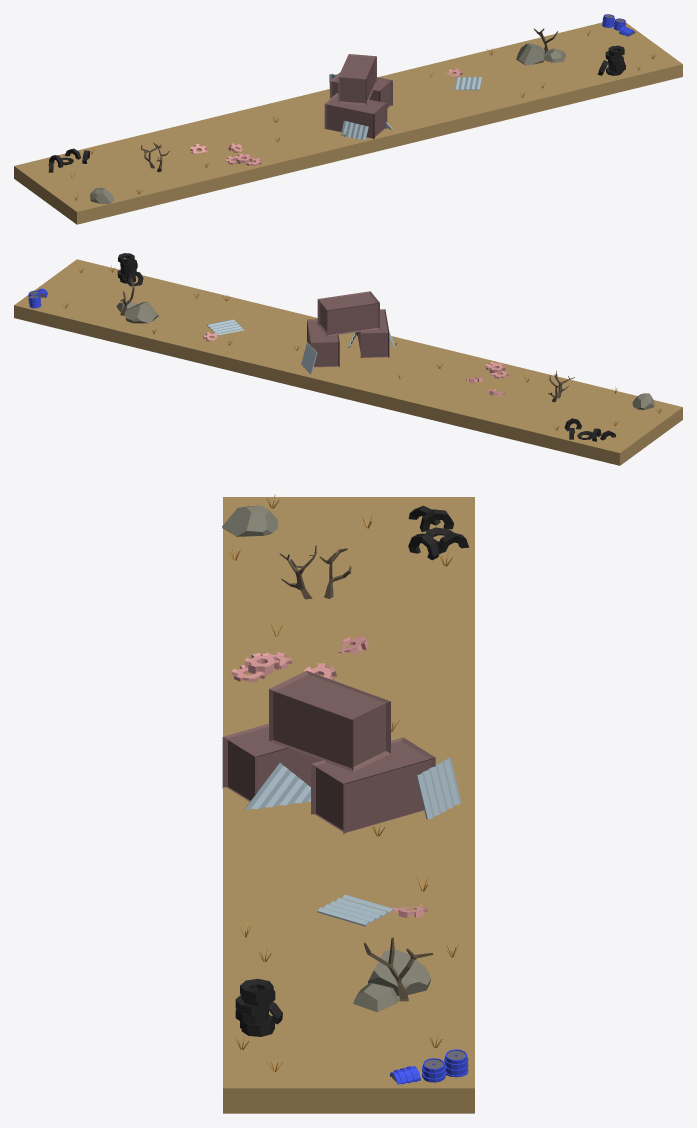
Rendered from Fora-FerroVelho-1.glb.
3 renders of one model, top to bottom at view 1: azimuth 30°, elevation 25°; view 2: azimuth 150°, elevation 25°; view 3: azimuth 270°, elevation 25°, orthographic. The views are drawn at different scales.
Visible parts, largest first — view 1: CHAO.008, CONTAINER.001, CONTAINER.003, CONTAINER.002, PEDRA.030, METAL.008, METAL.007; view 2: CHAO.008, CONTAINER.003, CONTAINER.002, CONTAINER.001, PEDRA.030, METAL.007; view 3: CHAO.008, CONTAINER.003, CONTAINER.002, CONTAINER.001, METAL.009, METAL.010, PEDRA.030, METAL.007, PEDRA.026, PEDRA.031.
Part boxes in pixels (bbox=[...]): CHAO.008: bbox=[14, 18, 682, 224]; CONTAINER.001: bbox=[324, 93, 387, 139]; CONTAINER.003: bbox=[338, 54, 376, 105]; CONTAINER.002: bbox=[330, 72, 392, 108]; PEDRA.030: bbox=[516, 43, 544, 65]; METAL.008: bbox=[340, 120, 368, 139]; METAL.007: bbox=[454, 76, 481, 90]; CHAO.008: bbox=[14, 259, 682, 465]; CONTAINER.003: bbox=[317, 291, 379, 336]; CONTAINER.002: bbox=[307, 319, 339, 367]; CONTAINER.001: bbox=[356, 309, 389, 358]; PEDRA.030: bbox=[124, 301, 158, 323]; METAL.007: bbox=[207, 319, 243, 335]; CHAO.008: bbox=[223, 497, 474, 1113]; CONTAINER.003: bbox=[269, 670, 390, 771]; CONTAINER.002: bbox=[311, 737, 435, 834]; CONTAINER.001: bbox=[222, 723, 321, 801]; METAL.009: bbox=[416, 757, 461, 819]; METAL.010: bbox=[245, 762, 310, 810]; PEDRA.030: bbox=[367, 949, 430, 995]; METAL.007: bbox=[317, 894, 393, 926]; PEDRA.026: bbox=[222, 505, 277, 536]; PEDRA.031: bbox=[353, 982, 398, 1012].
Size of the model in its own units: 50 by 5.23 by 9.04.
